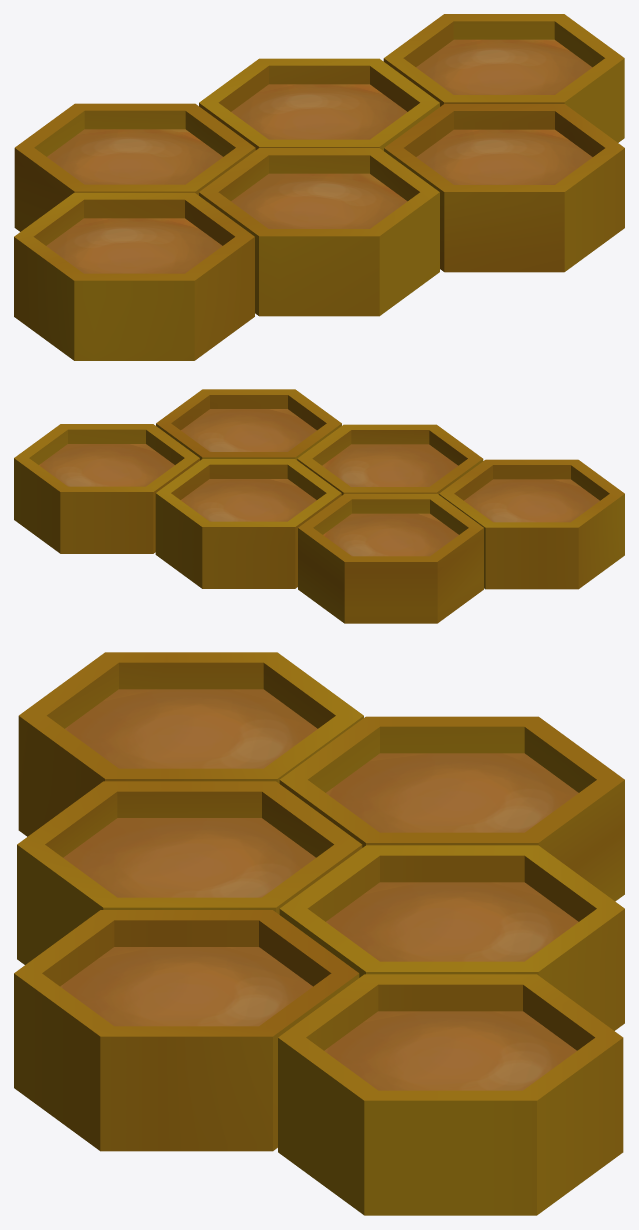
File: favo_mel.fbx
3 renders of one model, top to bottom at view 1: azimuth 30°, elevation 25°; view 2: azimuth 150°, elevation 25°; view 3: azimuth 270°, elevation 25°, orthographic. The views are drawn at different scales.
Visible parts, largest first — view 1: Cylinder.001; view 2: Cylinder.001; view 3: Cylinder.001.
Part boxes in pixels (x1,y1,x2,y2): Cylinder.001: (14,14,624,360); Cylinder.001: (14,389,624,623); Cylinder.001: (14,652,624,1215).
Size of the model in its own units: 70.33 by 8.39 by 40.5.
Materials: 1 (1 with a texture image).
